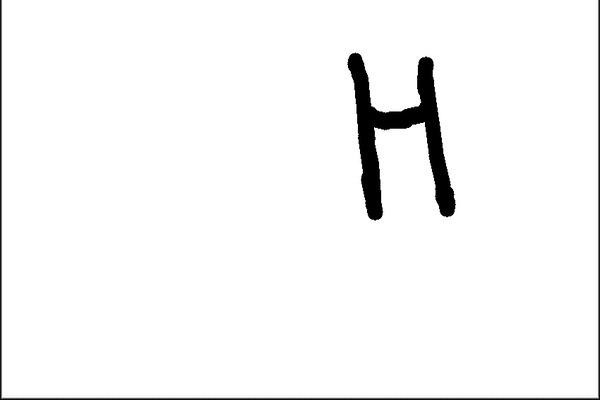H: (342, 47, 460, 223)
